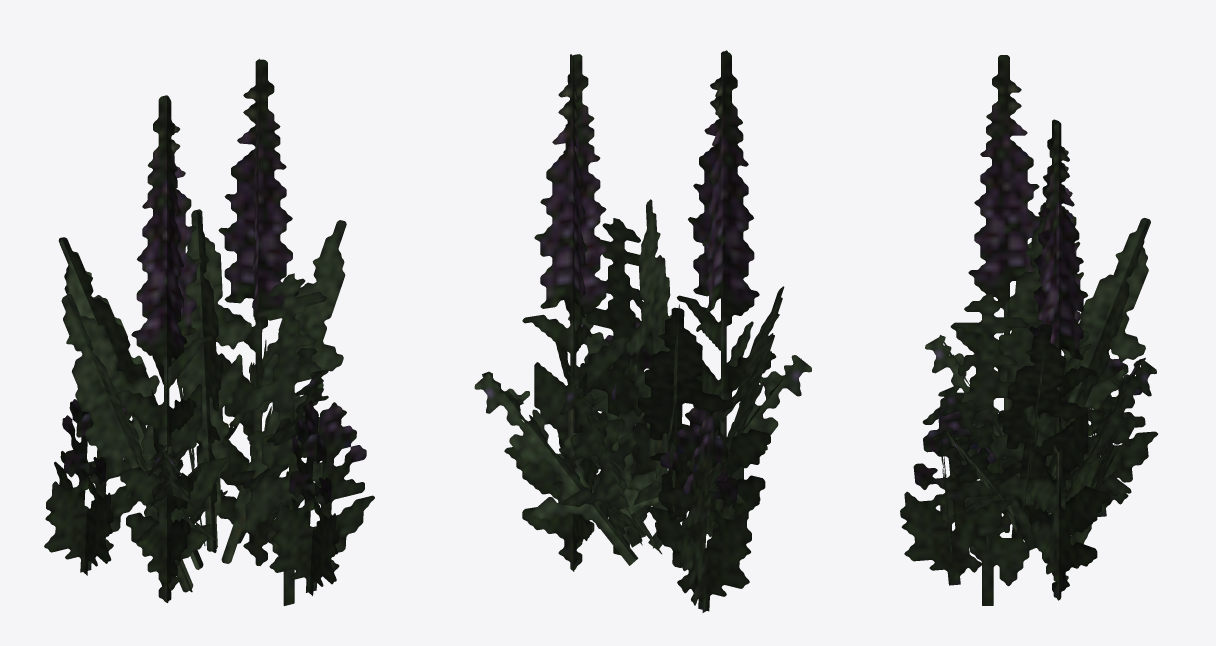
Rendered from SM_EC_Plant_Bush_01.fbx.
3 renders of one model, left to right at view 1: azimuth 30°, elevation 25°; view 2: azimuth 150°, elevation 25°; view 3: azimuth 270°, elevation 25°, orthographic. The views are drawn at different scales.
Visible parts, largest first — view 1: SM_EC_Plant_Bush_01; view 2: SM_EC_Plant_Bush_01; view 3: SM_EC_Plant_Bush_01.
Part boxes in pixels (x1=…): SM_EC_Plant_Bush_01: x1=44, y1=58, x2=374, y2=605; SM_EC_Plant_Bush_01: x1=474, y1=50, x2=811, y2=612; SM_EC_Plant_Bush_01: x1=900, y1=55, x2=1157, y2=605.
Size of the model in its own units: 1.04 by 0.843 by 1.49.
